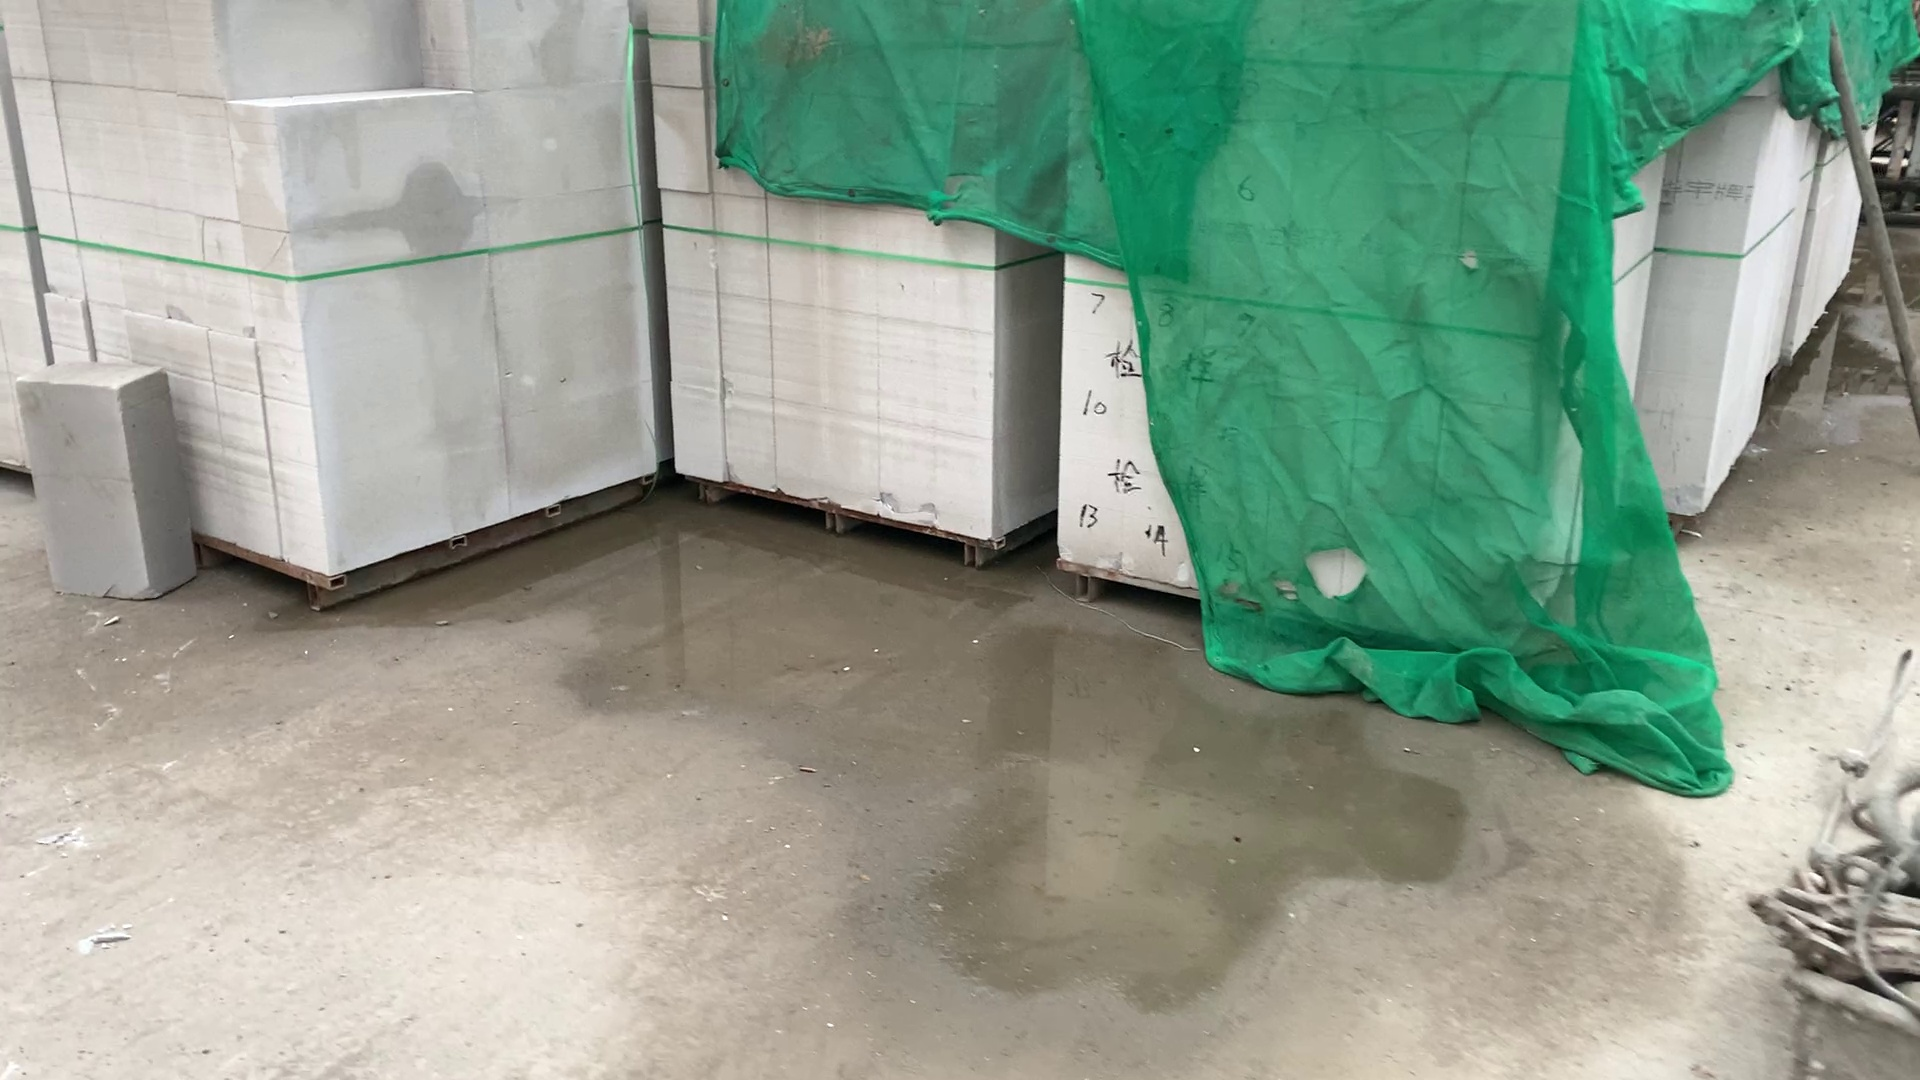brickwork: (4, 4, 661, 543), (1058, 7, 1623, 625), (650, 7, 1039, 556), (1662, 46, 1760, 518), (1800, 40, 1863, 352)
